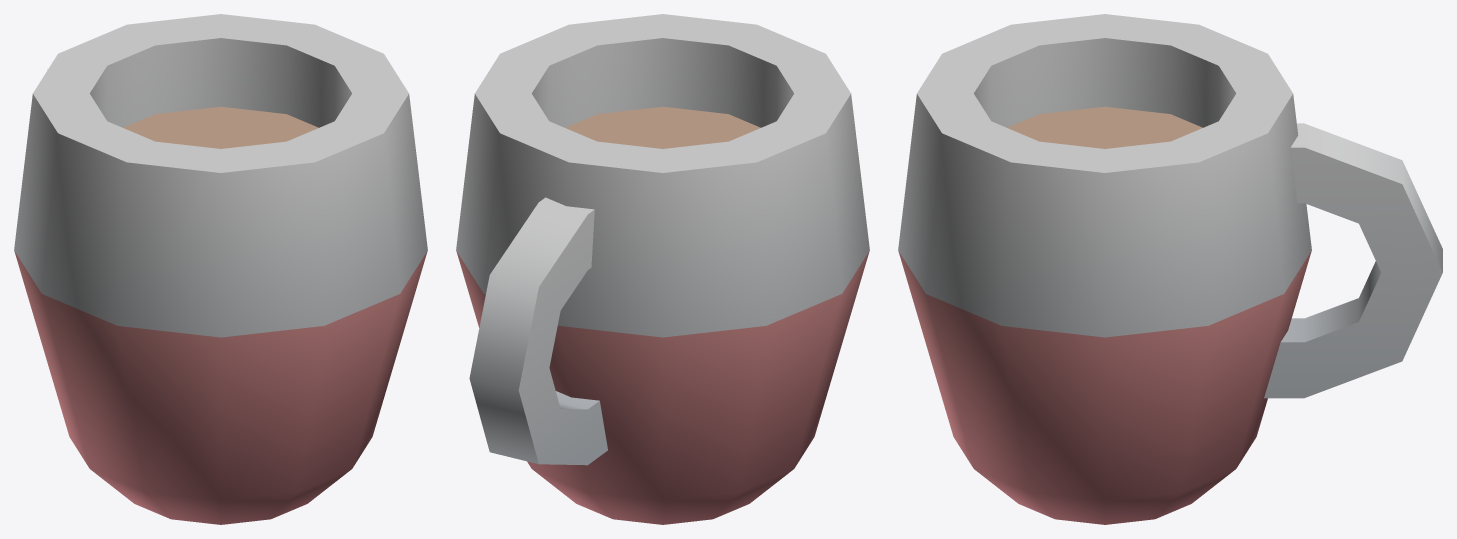
File: mug-cocoa.glb
3 renders of one model, left to right at view 1: azimuth 30°, elevation 25°; view 2: azimuth 150°, elevation 25°; view 3: azimuth 270°, elevation 25°, orthographic.
Visible parts, largest first — view 1: mug-cocoa; view 2: mug-cocoa; view 3: mug-cocoa.
Boxes of the visible parts, <box> form: mug-cocoa: <box>14,14,427,524</box>; mug-cocoa: <box>456,14,869,524</box>; mug-cocoa: <box>898,14,1442,524</box>.
Bounding box in the file's own units: 0.1638 × 0.17 × 0.2157.
